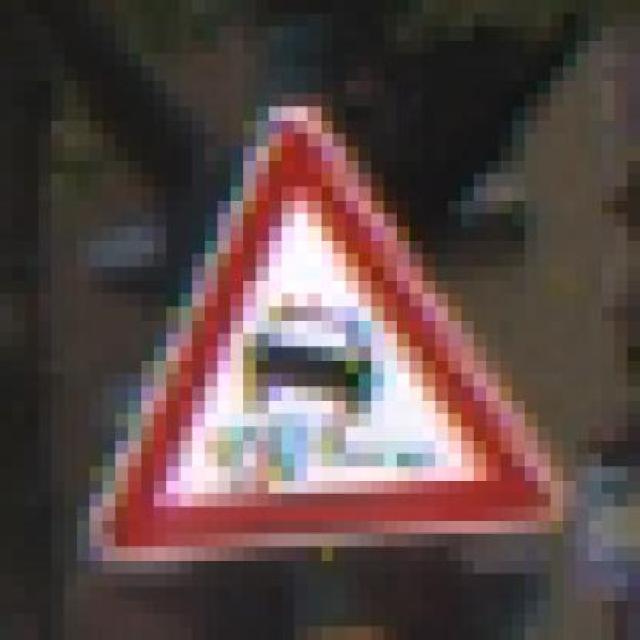Slippery Road Ahead: (71, 86, 583, 566)
